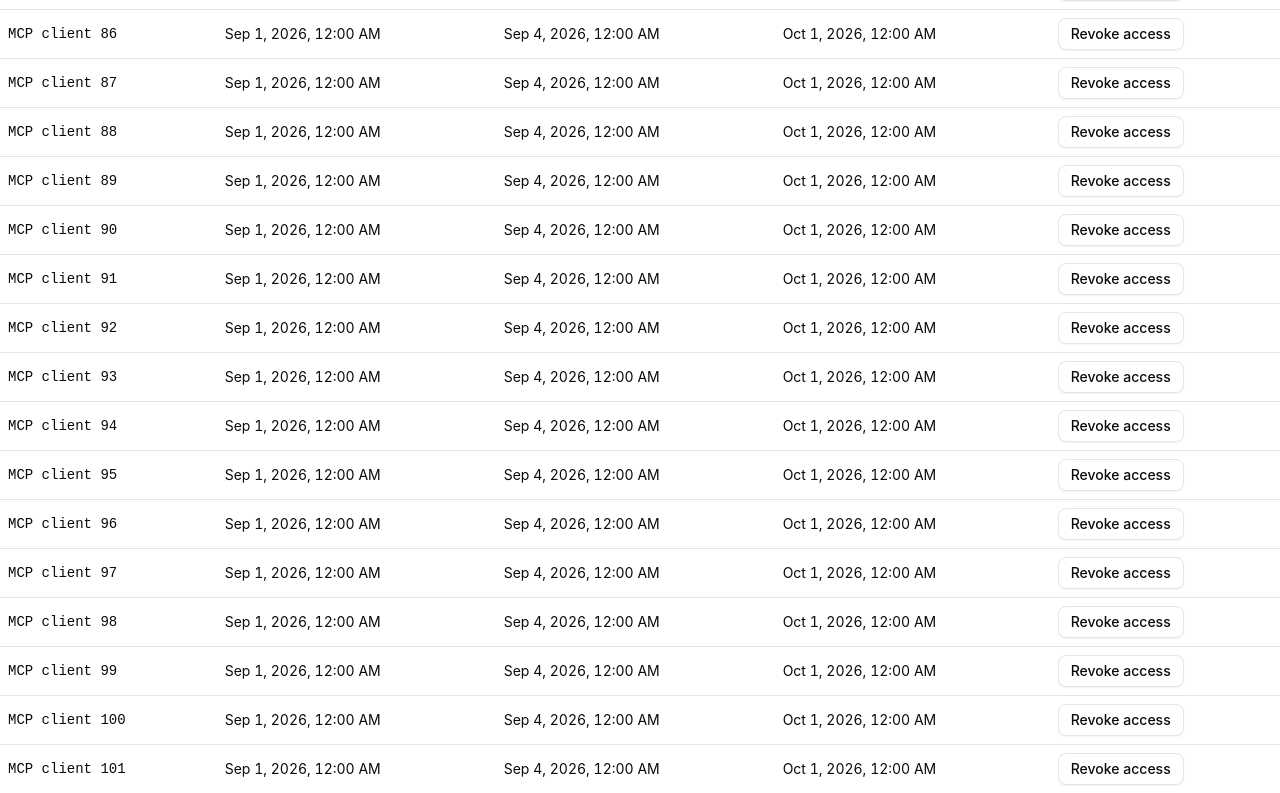
Test: connected MCP clients › follows the cursor to list every client and revokes the newest one
(page scrolled)
Click the button "Revoke access" in the row of "MCP client 101".
click(1121, 768)  # box [1058,752,1184,784]
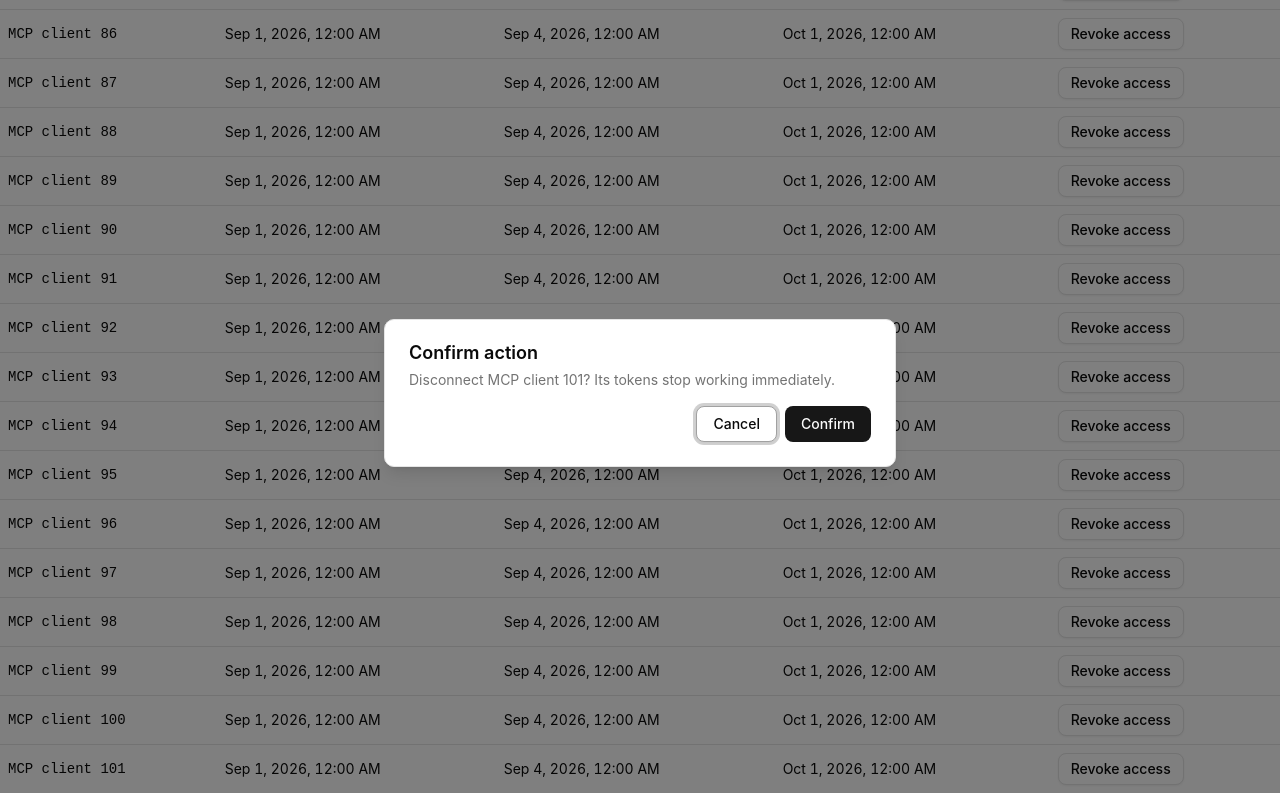
Expected: the text "Disconnect MCP client 101? Its tokens stop working immediately." is shown, [409,370,871,390]
Click the button "Confirm".
click(828, 424)  # box [785,406,871,442]
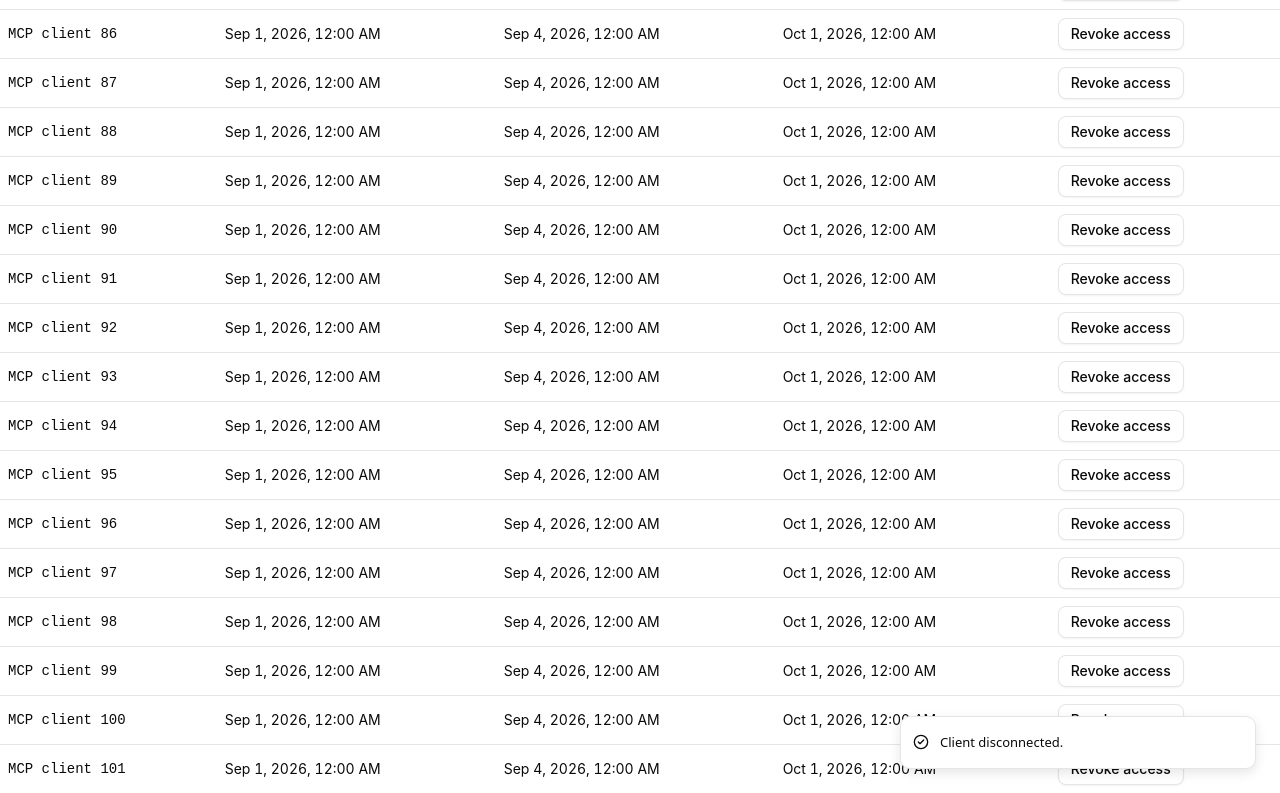
Expected: the text "Client disconnected." is shown, [940,732,1063,752]
